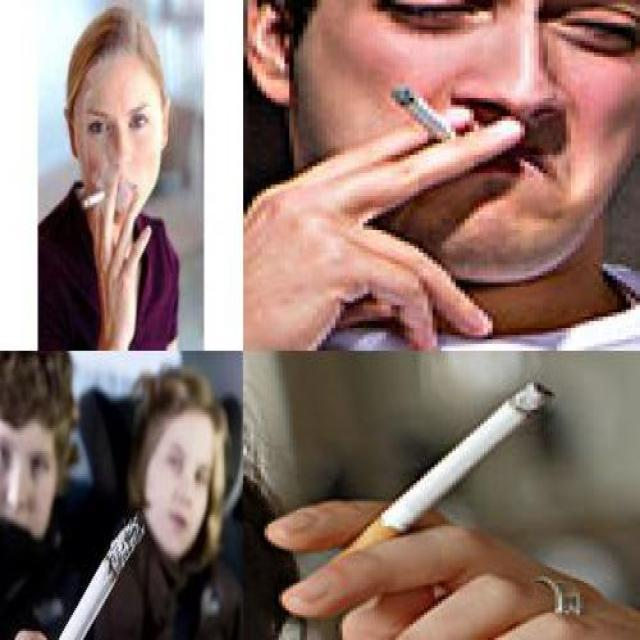smoking: (381, 372, 559, 528), (12, 517, 144, 638), (389, 85, 472, 158), (82, 184, 114, 210)
